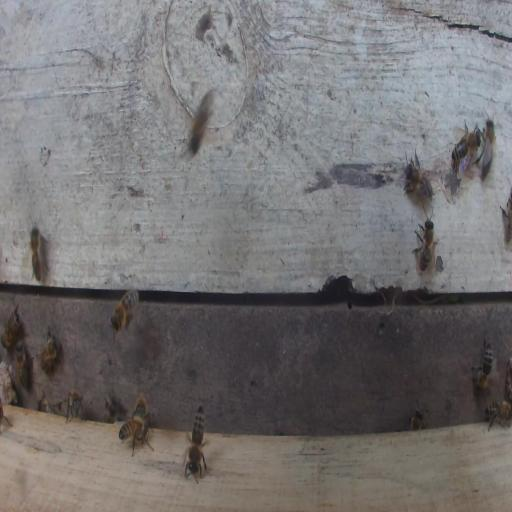nonpollenbee: (400, 146, 434, 206), (184, 403, 208, 485), (450, 118, 481, 177), (117, 415, 153, 457), (109, 289, 139, 335), (412, 215, 435, 274), (471, 334, 493, 392), (480, 118, 497, 182), (40, 327, 59, 375), (1, 305, 20, 350), (484, 400, 511, 431), (30, 225, 44, 282), (14, 340, 28, 388), (104, 393, 125, 424), (65, 389, 84, 422), (501, 188, 512, 241), (39, 390, 62, 415), (133, 393, 150, 426), (409, 407, 424, 431)
